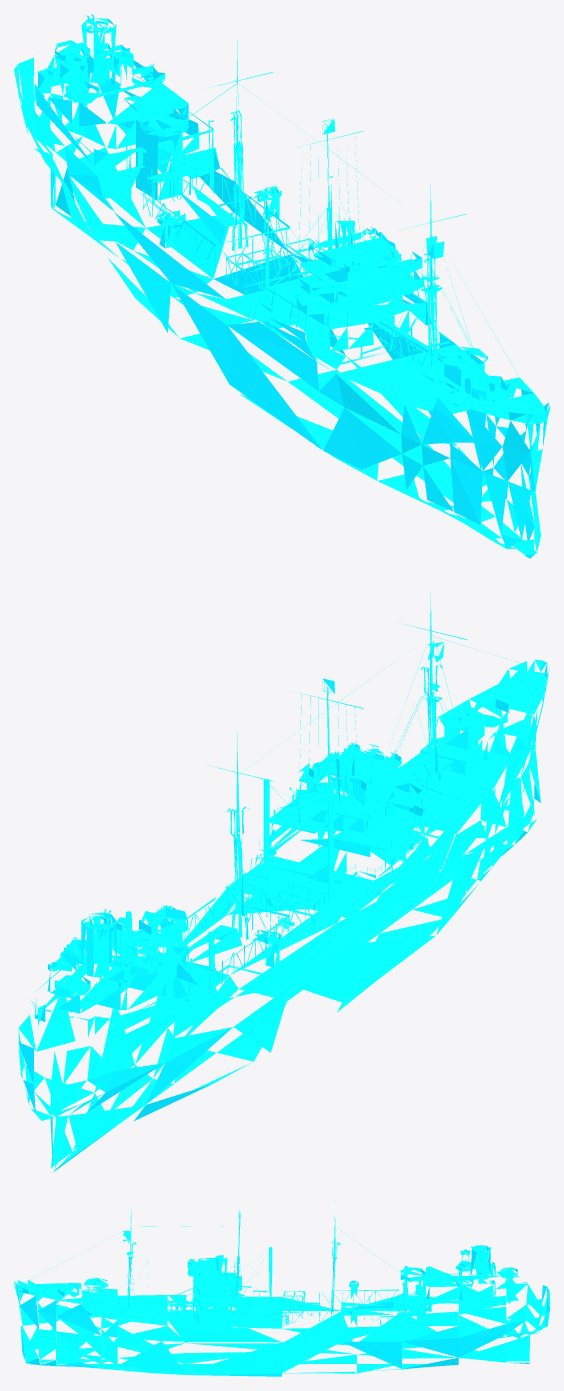
The model's file is Cimarron.glb.
3 views of the same model, one above another, from view 1: azimuth 30°, elevation 25°; view 2: azimuth 150°, elevation 25°; view 3: azimuth 270°, elevation 25° (orthographic). The views are drawn at different scales.
Size of the model in its own units: 1.57 by 3.78 by 11.25.
